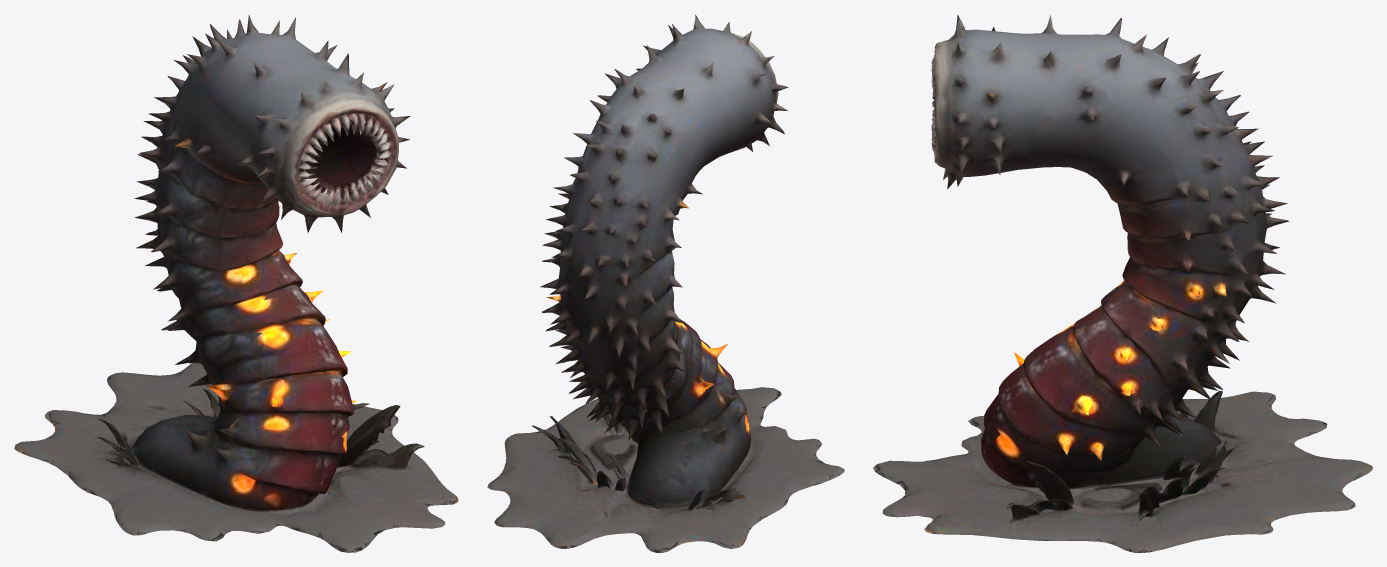
File: boss_leviathan.glb
3 views of the same model, side by side, from view 1: azimuth 30°, elevation 25°; view 2: azimuth 150°, elevation 25°; view 3: azimuth 270°, elevation 25° (orthographic). The views are drawn at different scales.
Parts seen in each view (by area): view 1: boss_leviathan; view 2: boss_leviathan; view 3: boss_leviathan.
Boxes of the visible parts, <box> form: boss_leviathan: <box>14,15,458,552</box>; boss_leviathan: <box>487,14,844,552</box>; boss_leviathan: <box>873,14,1372,552</box>.
Bounding box in the file's own units: 0.763 × 1 × 0.9975.
Materials: 1 (1 with a texture image).
